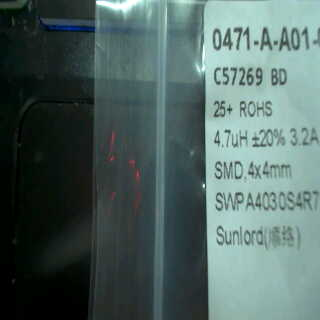4.7uH: (214, 125, 252, 151)
